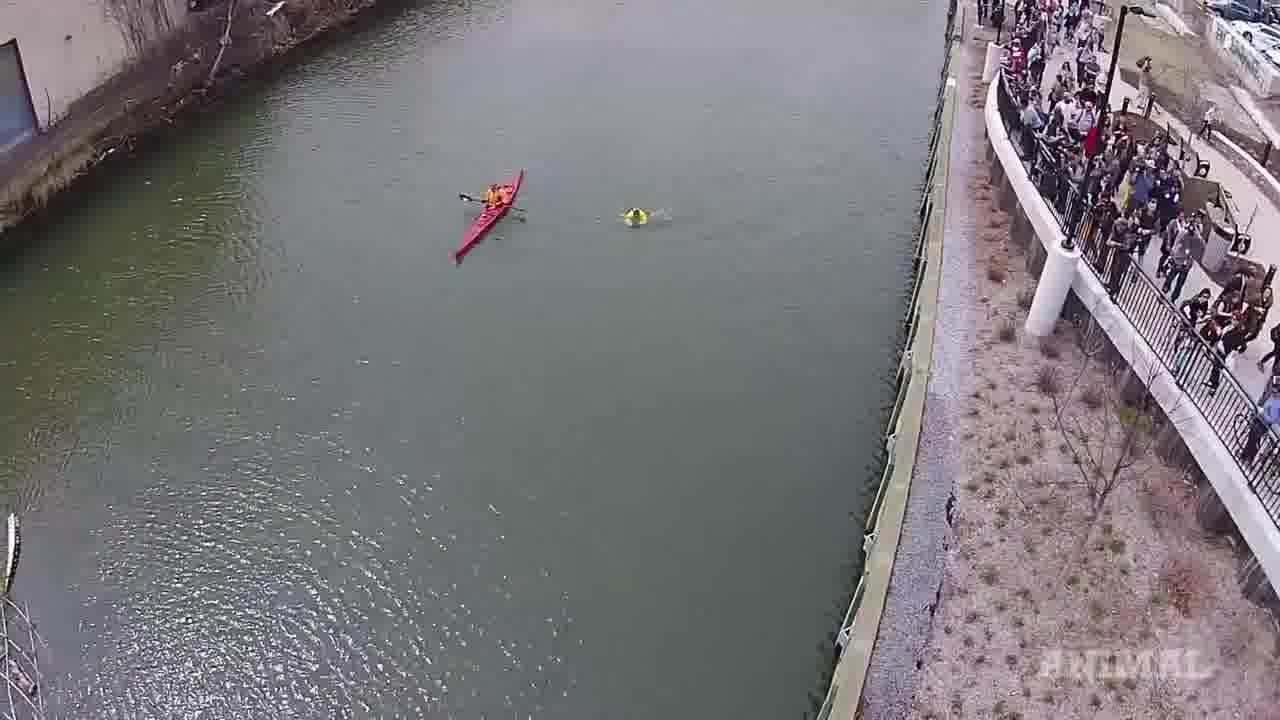human: (614, 199, 655, 232)
